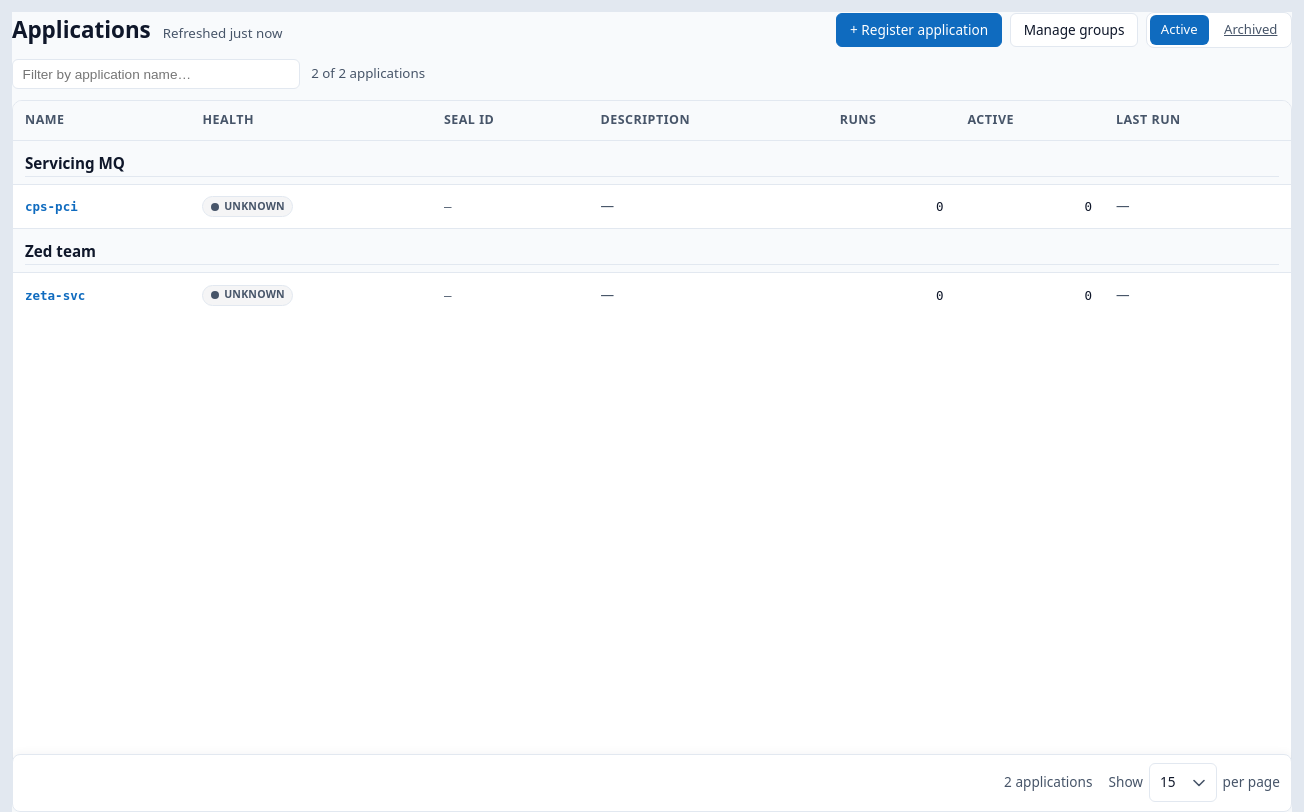
Test case: ApplicationsListPage — application groups › the search box also matches a group's name
expect the link "zeta-svc" is shown: met, box [25,288,85,303]
In the search field: (156, 74) [12,59,300,89], type "servicing"
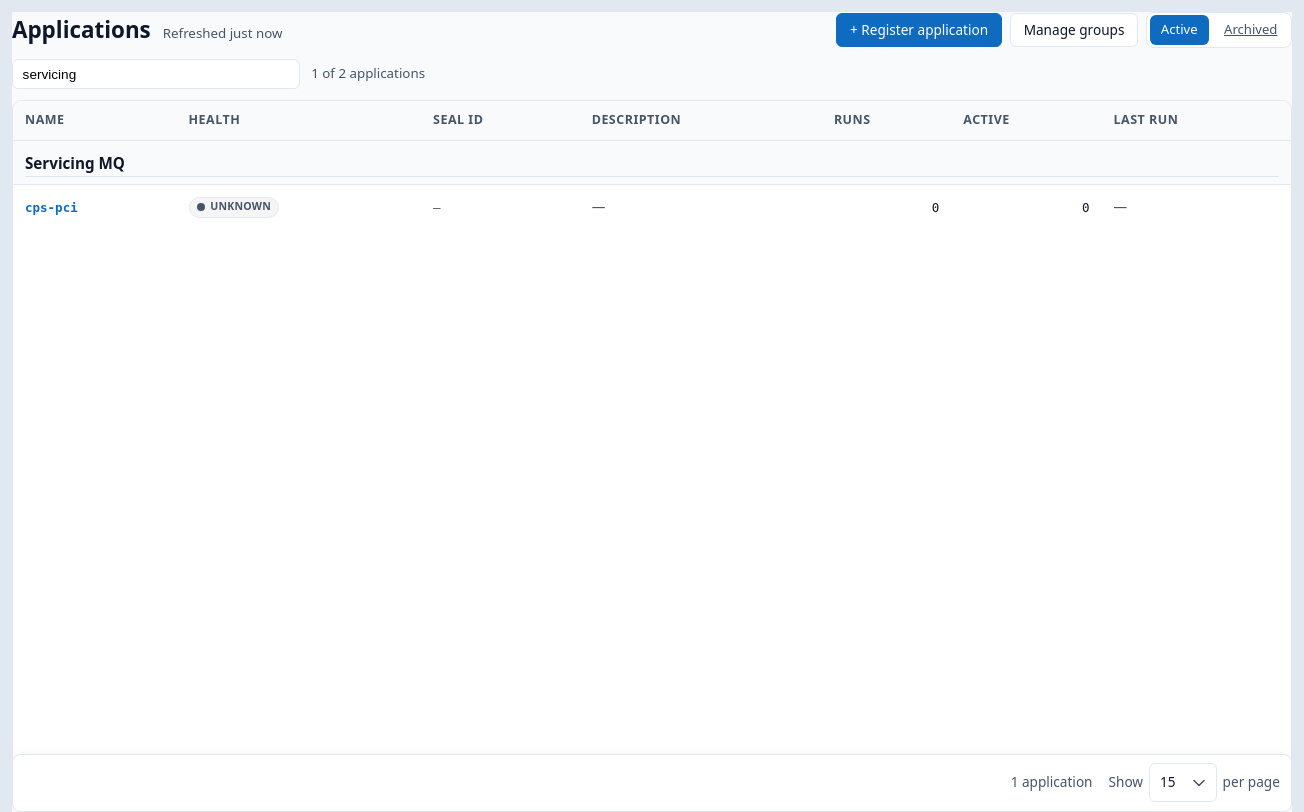
expect the link "cps-pci" is shown: met, box [25,200,78,215]
expect the link "zeta-svc" is gone: met
